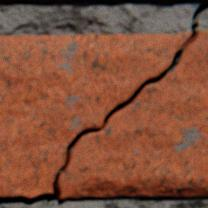brick: (0, 0, 189, 2)
broken_brick: (0, 32, 190, 198), (56, 31, 207, 199)
crack: (0, 0, 207, 206)
